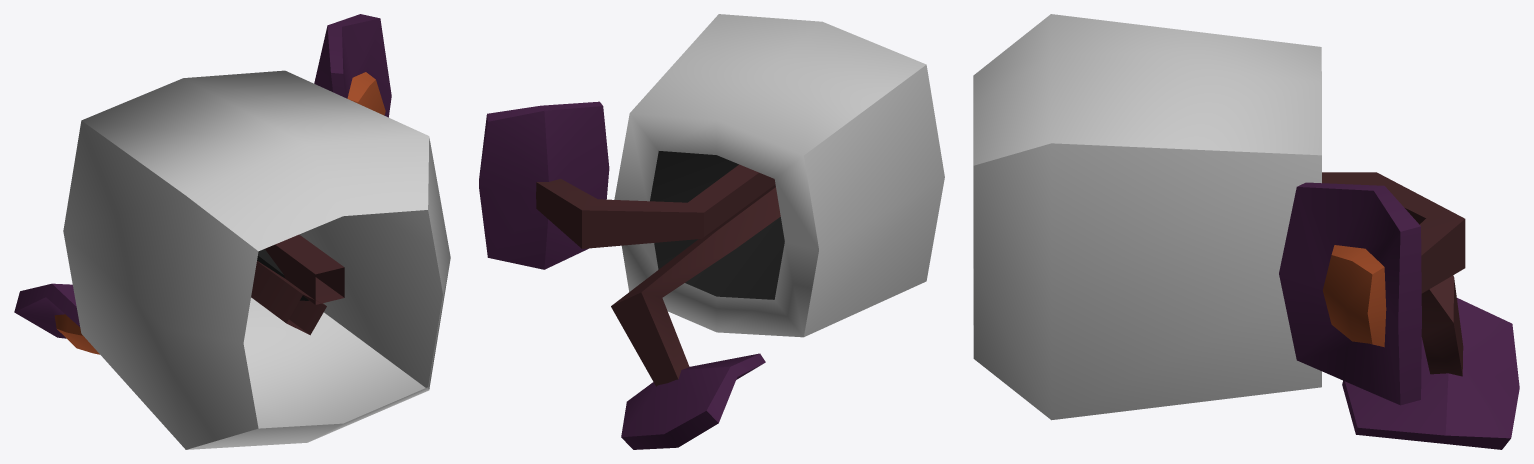
File: Vase 02.FBX
3 renders of one model, left to right at view 1: azimuth 30°, elevation 25°; view 2: azimuth 150°, elevation 25°; view 3: azimuth 270°, elevation 25°, orthographic. The views are drawn at different scales.
Visible parts, largest first — view 1: Vase 02; view 2: Vase 02; view 3: Vase 02.
Boxes of the visible parts, x1,y1,x2,y2 form: Vase 02: (14,14,450,449); Vase 02: (479,14,944,449); Vase 02: (973,14,1519,449).
Bounding box in the file's own units: 36.88 × 32.28 × 41.45.
